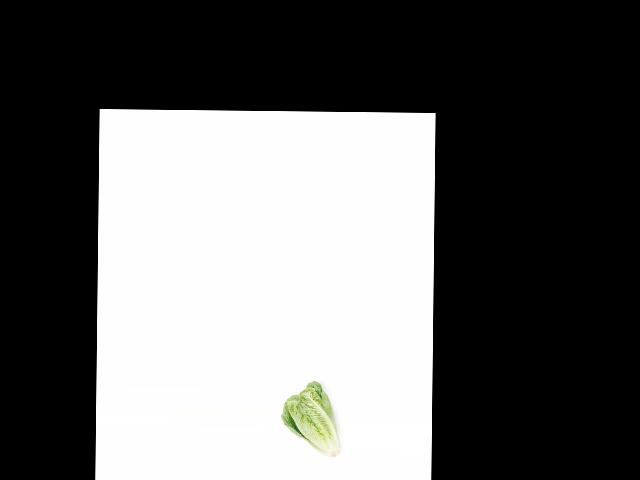lettuce: (280, 381, 342, 458)
